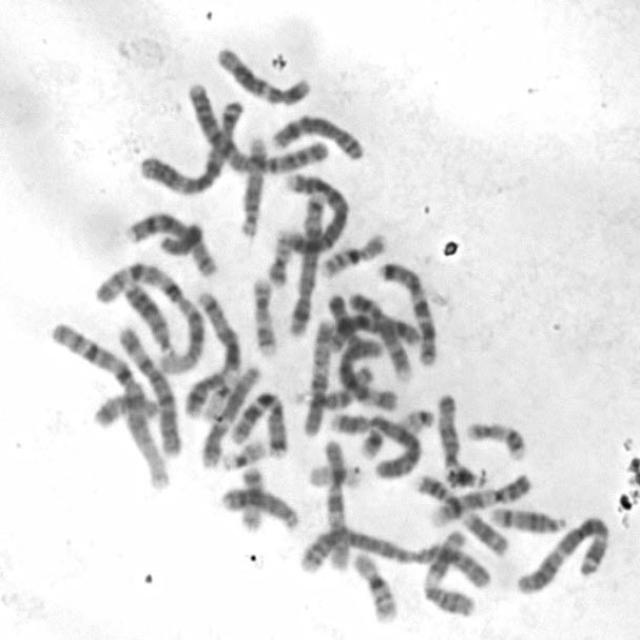A1: (42, 316, 173, 492), (92, 255, 208, 376)
A2: (184, 76, 333, 177), (291, 521, 493, 589)
A3: (134, 92, 249, 196), (512, 509, 612, 596)
B4: (326, 406, 423, 481), (276, 164, 353, 255)
B5: (185, 284, 242, 418), (284, 185, 328, 339)
C10: (298, 312, 336, 439), (319, 431, 351, 573)
C11: (411, 468, 512, 558), (418, 525, 479, 618)
C12: (196, 360, 264, 470), (211, 38, 315, 107)
C6: (111, 318, 186, 462), (334, 328, 401, 412)
C7: (372, 253, 441, 370), (228, 385, 291, 460)
C8: (120, 205, 218, 278), (265, 107, 367, 163)
C9: (342, 285, 416, 383), (425, 468, 532, 529)
D13: (118, 274, 178, 356), (217, 481, 304, 534)
D14: (233, 128, 270, 240), (485, 498, 569, 535)
D15: (296, 362, 376, 413), (432, 386, 464, 472)
E16: (348, 544, 400, 625), (316, 226, 389, 279)
E17: (462, 415, 530, 463), (248, 271, 280, 359)
E18: (90, 388, 164, 432), (322, 293, 360, 347)
F19: (304, 457, 364, 490), (204, 368, 240, 423)
F20: (236, 462, 268, 533), (263, 226, 294, 287)
G21: (440, 460, 489, 490), (354, 421, 387, 460)
G22: (217, 431, 269, 472), (396, 402, 436, 435)
X: (322, 308, 422, 353)
Y: (155, 219, 205, 257)
